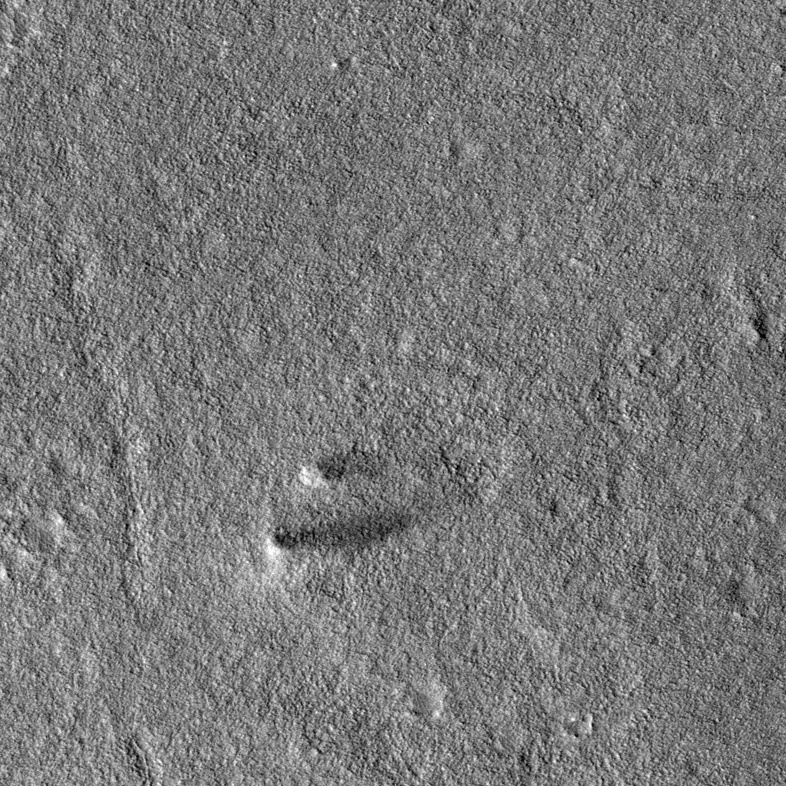dust_devil: (263, 512, 413, 561), (295, 448, 387, 490)
